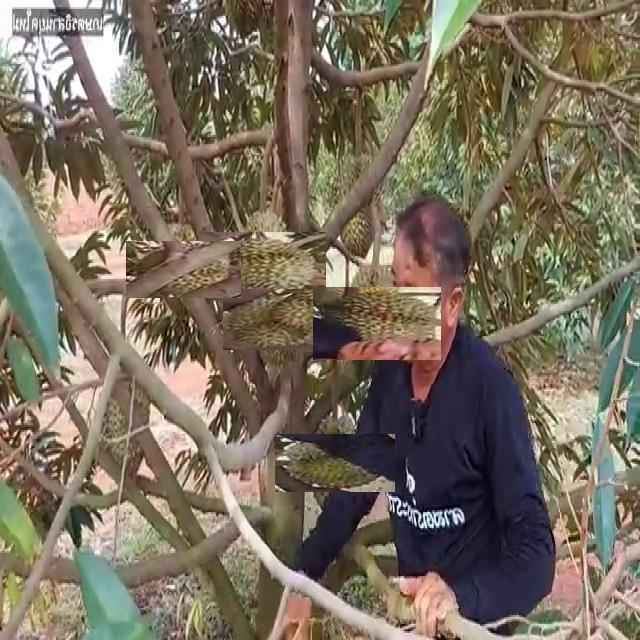durian: (327, 272, 428, 373), (213, 215, 310, 312), (92, 360, 158, 486), (291, 419, 380, 508), (140, 226, 226, 313), (233, 278, 315, 361), (337, 165, 384, 263)
